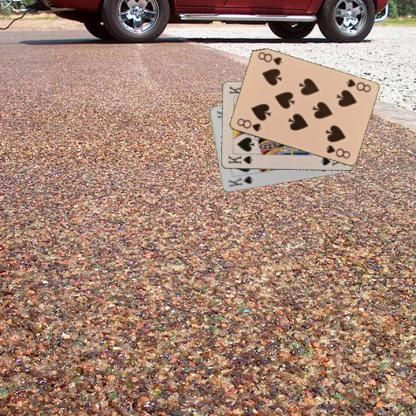8s: (233, 115, 262, 133), (343, 76, 372, 94)
Ks: (225, 174, 254, 188), (225, 153, 254, 165)
